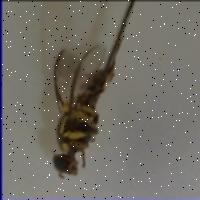Oriental-fruit-fly: (45, 38, 126, 184)
